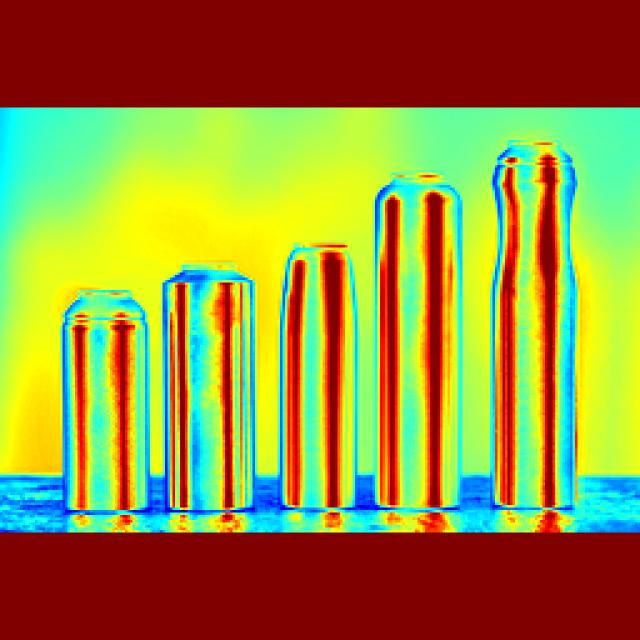Aerosol Cans: (468, 129, 601, 507), (369, 166, 469, 528), (159, 243, 268, 557), (277, 222, 365, 548), (56, 280, 164, 518)
